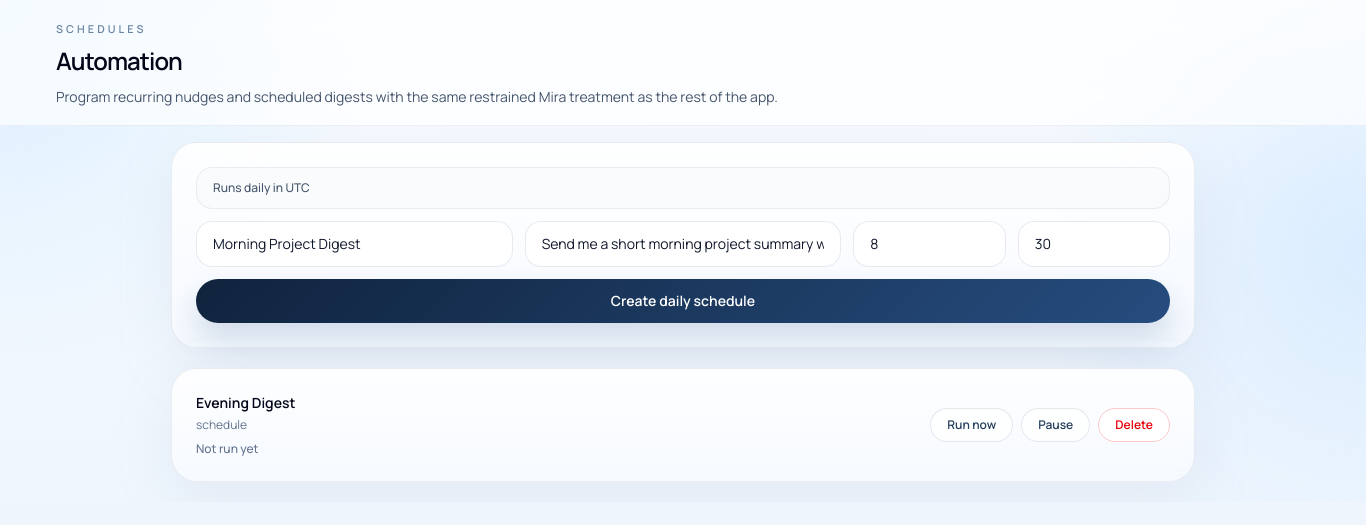
Test case: SchedulePage timezone handling › shows an error message when a run-now request fails
Check: the text "Evening Digest" is shown, box [196,393,295,413]
Click the button "Run now": (972, 425) [930,408,1013,442]
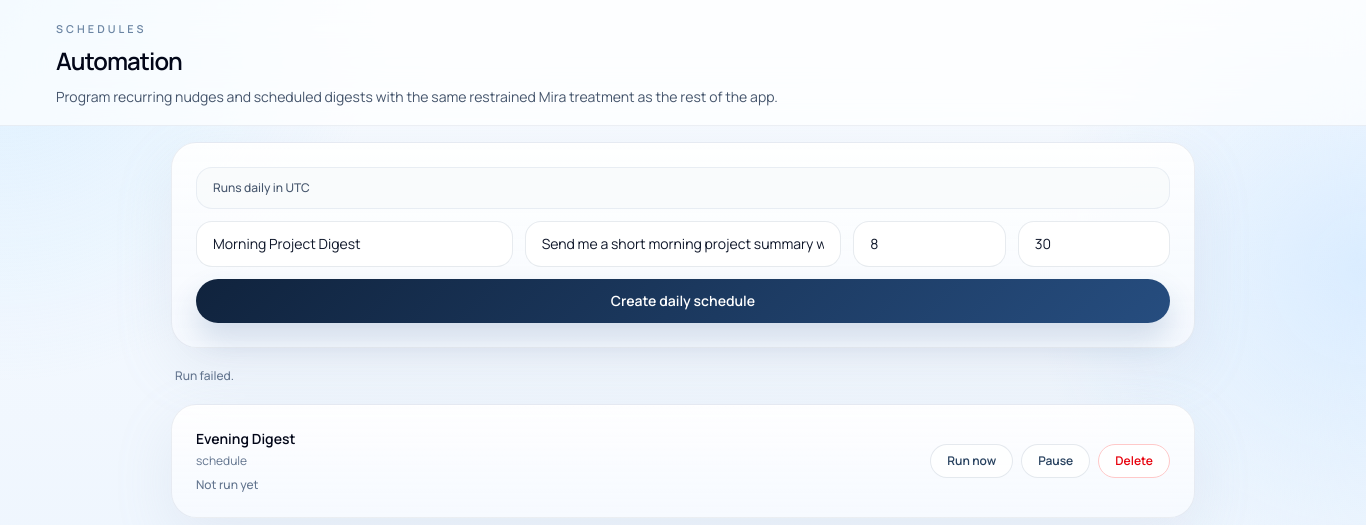
Check: the text "Run failed." is shown, box [175,367,234,384]
